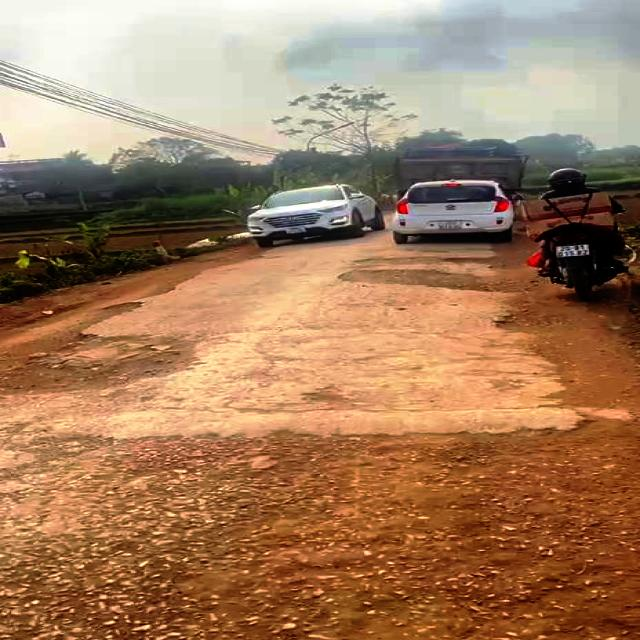pothole: (0, 297, 201, 398), (334, 254, 528, 294), (491, 306, 543, 334)
